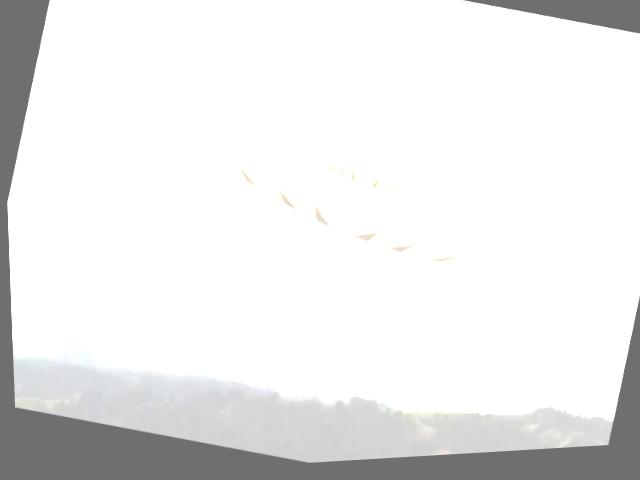iha: (189, 80, 510, 311)
